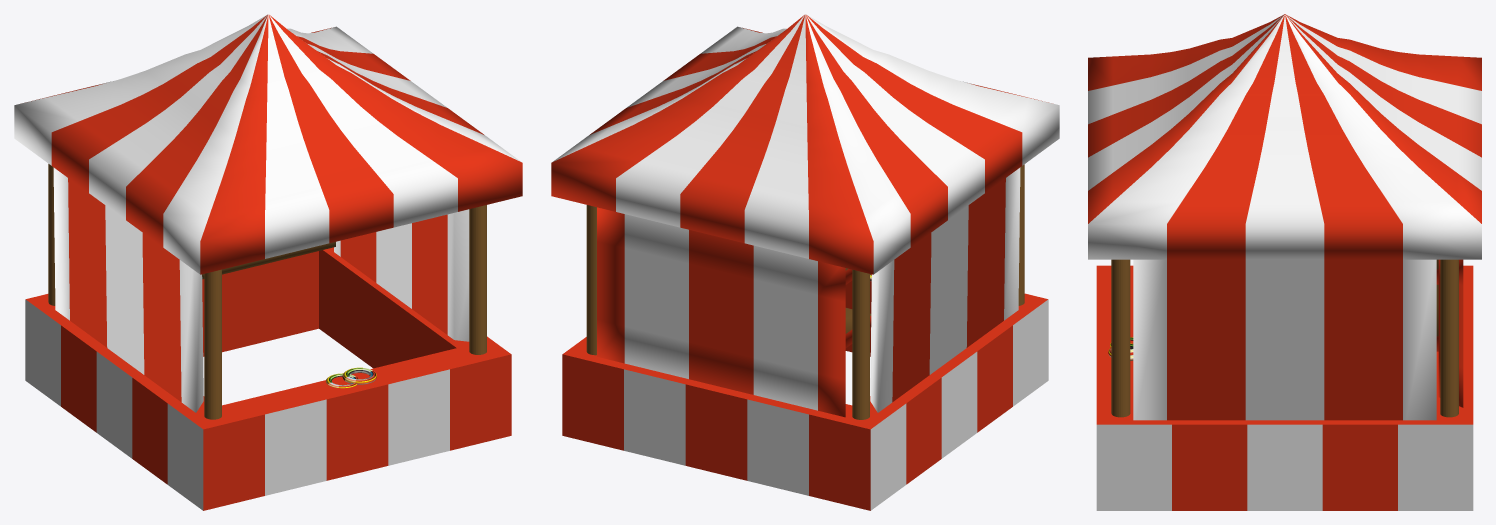
Rendered from tiendaBotellas.fbx.
3 renders of one model, left to right at view 1: azimuth 30°, elevation 25°; view 2: azimuth 150°, elevation 25°; view 3: azimuth 270°, elevation 25°, orthographic. The views are drawn at different scales.
Visible parts, largest first — view 1: Torus.001; view 2: Torus.001; view 3: Torus.001.
Boxes of the visible parts, x1,y1,x2,y2 form: Torus.001: (14, 14, 522, 510); Torus.001: (551, 14, 1059, 510); Torus.001: (1088, 14, 1481, 510).
Bounding box in the file's own units: 340 × 398 × 340.
3 materials, 3 textured.
